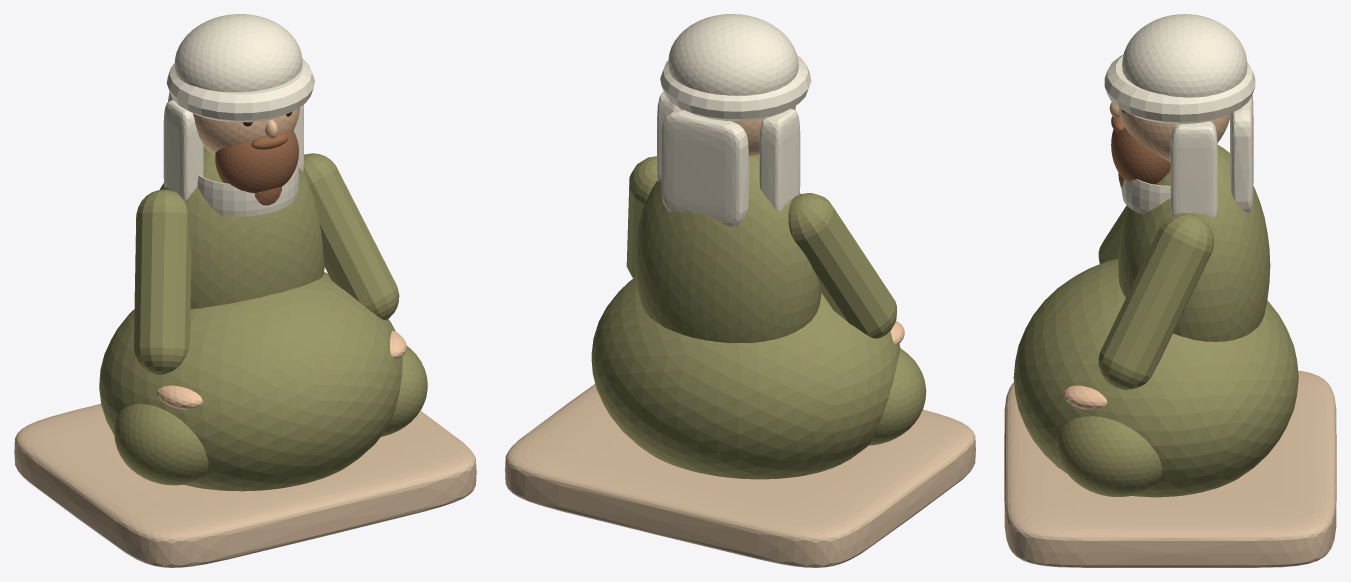
Rendered from seated_sahabe.glb.
The picture shows the model from 3 angles, left to right: view 1: azimuth 30°, elevation 25°; view 2: azimuth 150°, elevation 25°; view 3: azimuth 270°, elevation 25°; orthographic projection. The views are drawn at different scales.
Parts seen in each view (by area): view 1: Skirt, Slab, Torso, Sleeve_R, Turban, Sleeve_L, Knee_-1, Turban_Wrap, Beard, Drape_R, Drape_Chest, Head (+2 smaller); view 2: Slab, Skirt, Torso, Drape_Back, Turban, Sleeve_R, Turban_Wrap, Drape_R, Knee_-1, Sleeve_L, Drape_L, Head; view 3: Slab, Skirt, Torso, Sleeve_L, Turban, Knee_1, Turban_Wrap, Drape_L, Drape_Back, Beard, Head, Drape_Chest (+2 smaller).
Part boxes in pixels (<box>): Skirt: <box>99,272,402,491</box>; Slab: <box>14,404,476,567</box>; Torso: <box>159,146,324,309</box>; Sleeve_R: <box>133,189,191,374</box>; Turban: <box>174,14,302,92</box>; Sleeve_L: <box>303,153,399,320</box>; Knee_-1: <box>114,404,208,485</box>; Turban_Wrap: <box>166,58,314,122</box>; Beard: <box>215,131,298,193</box>; Drape_R: <box>163,100,203,200</box>; Drape_Chest: <box>197,162,299,216</box>; Head: <box>193,107,300,154</box>; Slab: <box>505,384,975,567</box>; Skirt: <box>591,277,900,479</box>; Torso: <box>634,154,821,343</box>; Drape_Back: <box>661,109,749,226</box>; Turban: <box>668,14,798,95</box>; Sleeve_R: <box>788,193,896,338</box>; Turban_Wrap: <box>660,55,811,120</box>; Drape_R: <box>759,108,800,211</box>; Knee_-1: <box>868,348,926,445</box>; Sleeve_L: <box>626,156,657,278</box>; Drape_L: <box>657,92,680,181</box>; Head: <box>681,105,795,156</box>; Slab: <box>1004,370,1336,567</box>; Skirt: <box>1013,258,1298,497</box>; Torso: <box>1118,145,1270,341</box>; Sleeve_L: <box>1098,213,1213,389</box>; Turban: <box>1122,14,1247,97</box>; Knee_1: <box>1056,416,1162,496</box>; Turban_Wrap: <box>1104,54,1255,124</box>; Drape_L: <box>1170,121,1217,217</box>; Drape_Back: <box>1230,95,1253,212</box>; Beard: <box>1111,126,1170,184</box>; Head: <box>1118,108,1230,161</box>; Drape_Chest: <box>1121,179,1170,214</box>.
Bounding box in the file's own units: 0.9358 × 1.19 × 0.7706.
